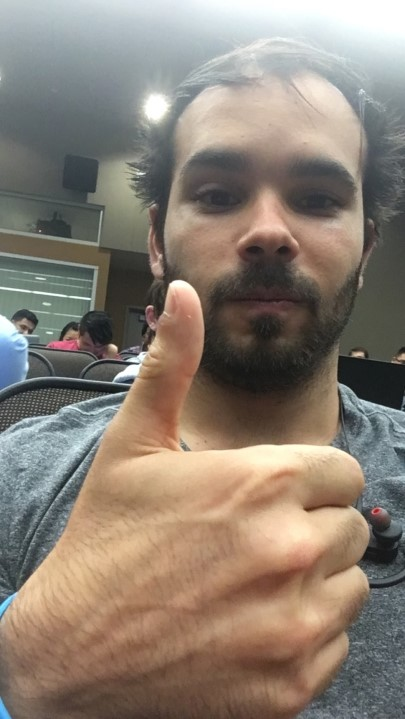hand: (51, 279, 373, 719)
